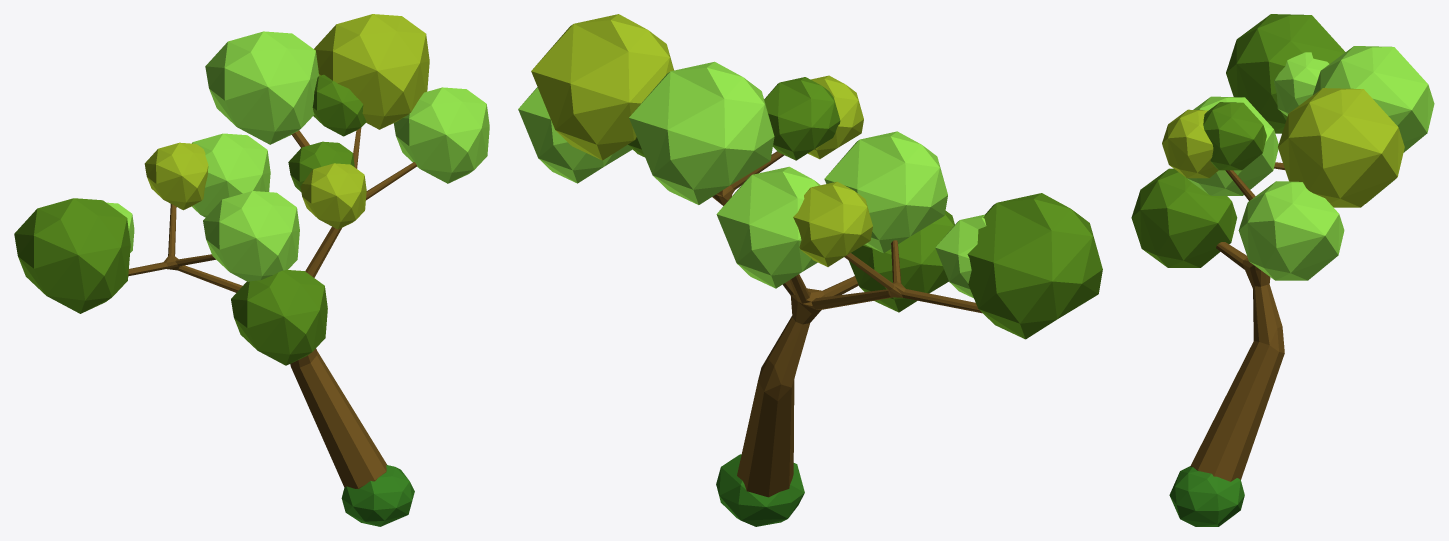
File: whoopingwillow.fbx
3 views of the same model, side by side, from view 1: azimuth 30°, elevation 25°; view 2: azimuth 150°, elevation 25°; view 3: azimuth 270°, elevation 25° (orthographic). The views are drawn at different scales.
Parts seen in each view (by area): view 1: Icosphere.003, Icosphere, Icosphere.002, Cube, Icosphere.008, Icosphere.009, Icosphere.011, Icosphere.010, Icosphere.006, Icosphere.005, Icosphere.012, Icosphere.001 (+1 smaller); view 2: Icosphere, Icosphere.003, Icosphere.002, Cube, Icosphere.009, Icosphere.010, Icosphere.005, Icosphere.007, Icosphere.008, Icosphere.011, Icosphere.012, Icosphere.004 (+1 smaller); view 3: Icosphere.002, Cube, Icosphere.011, Icosphere.008, Icosphere.003, Icosphere, Icosphere.007, Icosphere.012, Icosphere.006, Icosphere.009, Icosphere.004.
Part boxes in pixels (<box>): Icosphere.003: <box>14,198,130,313</box>; Icosphere: <box>205,31,319,144</box>; Icosphere.002: <box>314,14,429,129</box>; Cube: <box>128,128,416,488</box>; Icosphere.008: <box>231,269,327,365</box>; Icosphere.009: <box>203,191,299,281</box>; Icosphere.011: <box>393,87,489,183</box>; Icosphere.010: <box>192,133,270,217</box>; Icosphere.006: <box>300,163,366,229</box>; Icosphere.005: <box>144,142,208,210</box>; Icosphere.012: <box>341,465,414,526</box>; Icosphere.001: <box>312,74,366,136</box>; Icosphere: <box>629,61,774,204</box>; Icosphere.003: <box>967,193,1102,339</box>; Icosphere.002: <box>531,14,673,160</box>; Cube: <box>712,151,982,497</box>; Icosphere.009: <box>824,131,947,253</box>; Icosphere.010: <box>716,166,820,288</box>; Icosphere.005: <box>793,181,872,266</box>; Icosphere.007: <box>764,77,840,160</box>; Icosphere.008: <box>848,211,954,312</box>; Icosphere.011: <box>518,87,632,183</box>; Icosphere.012: <box>716,454,804,526</box>; Icosphere.004: <box>935,214,986,298</box>; Icosphere.002: <box>1278,88,1404,207</box>; Cube: <box>1190,162,1284,481</box>; Icosphere.011: <box>1238,181,1344,280</box>; Icosphere.008: <box>1131,168,1237,267</box>; Icosphere.003: <box>1226,14,1345,133</box>; Icosphere: <box>1313,46,1434,152</box>; Icosphere.007: <box>1203,102,1266,170</box>; Icosphere.012: <box>1169,466,1244,526</box>; Icosphere.006: <box>1162,109,1218,178</box>; Icosphere.009: <box>1187,96,1278,195</box>; Icosphere.004: <box>1274,52,1329,116</box>.
Bounding box in the file's own units: 269 × 251 × 148.
